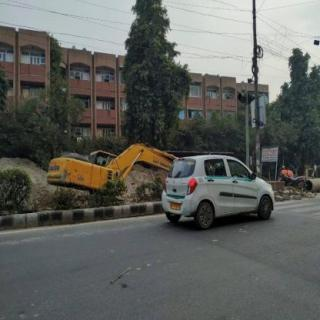Normal_vehicle: (162, 154, 274, 228)
